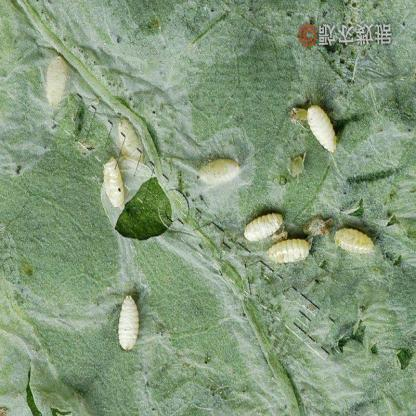whorl-maggot: (304, 100, 342, 158), (115, 286, 145, 358), (330, 219, 378, 258), (45, 48, 69, 113), (264, 237, 317, 266), (242, 209, 290, 240), (196, 157, 246, 184), (104, 158, 126, 206)
